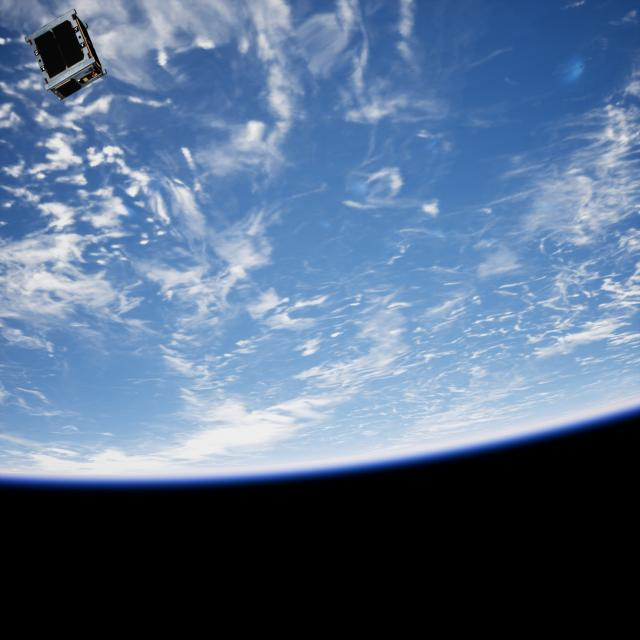medium_debris: (28, 9, 108, 97)
